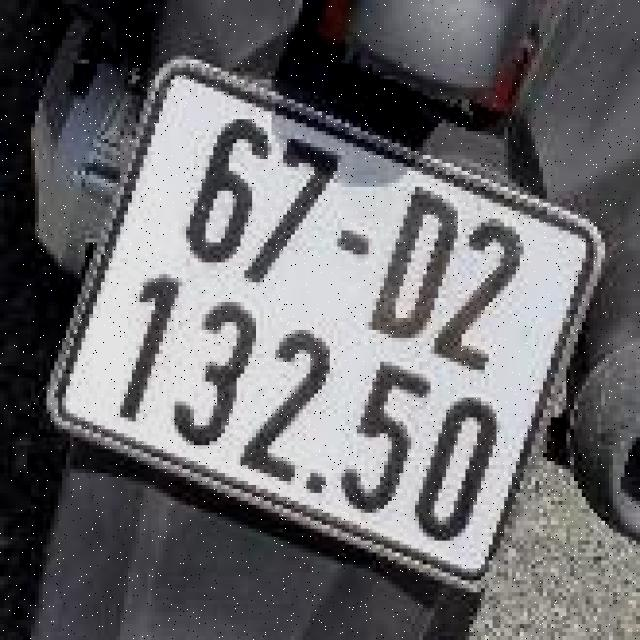0: (402, 378, 526, 558)
1: (101, 262, 201, 434)
2: (420, 202, 556, 388), (226, 318, 355, 493)
3: (159, 289, 286, 461)
5: (323, 351, 452, 529)
6: (171, 101, 291, 276)
7: (226, 125, 355, 300)
D: (353, 173, 478, 351)
